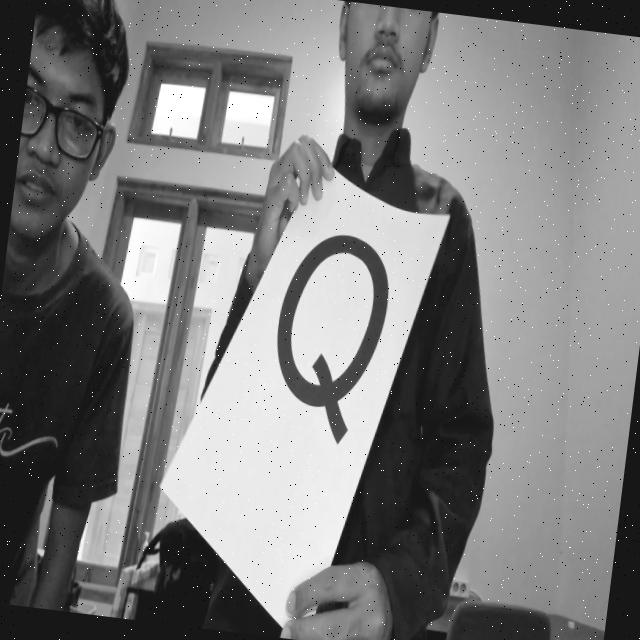q: (240, 210, 430, 490)
